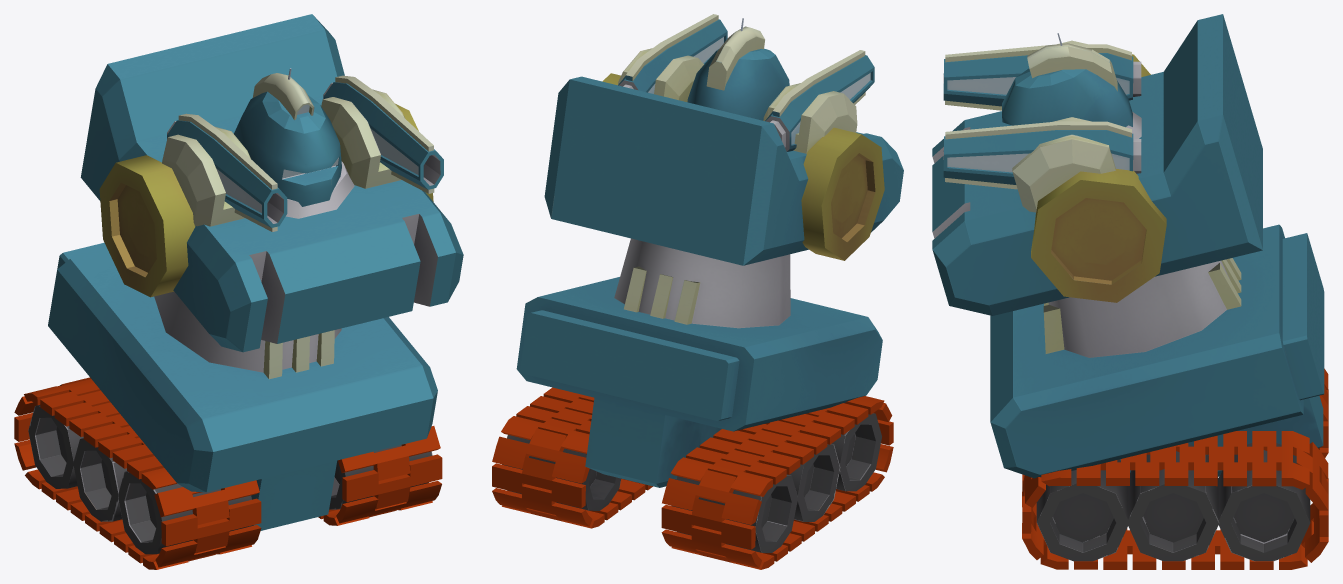
The model's file is player_move4.obj.
The picture shows the model from 3 angles, left to right: view 1: azimuth 30°, elevation 25°; view 2: azimuth 150°, elevation 25°; view 3: azimuth 270°, elevation 25°; orthographic projection. The views are drawn at different scales.
Visible parts, largest first — view 1: Object004, Box038, Object012, Object011, Box042; view 2: Object004, Box038, Box042, Object011, Object012; view 3: Object004, Object011, Box042, Object012, Box038.
Boxes of the visible parts, <box> form: Object004: <box>48,14,463,530</box>; Box038: <box>14,377,261,569</box>; Object012: <box>167,75,443,231</box>; Object011: <box>28,405,432,554</box>; Box042: <box>318,426,442,525</box>; Object004: <box>516,26,903,487</box>; Box038: <box>661,396,893,569</box>; Box042: <box>492,387,652,528</box>; Object011: <box>502,413,881,552</box>; Object012: <box>618,14,874,151</box>; Object004: <box>932,14,1324,478</box>; Object011: <box>1036,443,1310,561</box>; Box042: <box>1022,431,1328,569</box>; Object012: <box>943,44,1141,189</box>; Box038: <box>1318,368,1328,457</box>.
Bounding box in the file's own units: 110 × 177 × 135.
Materials: 3 (1 with a texture image).
